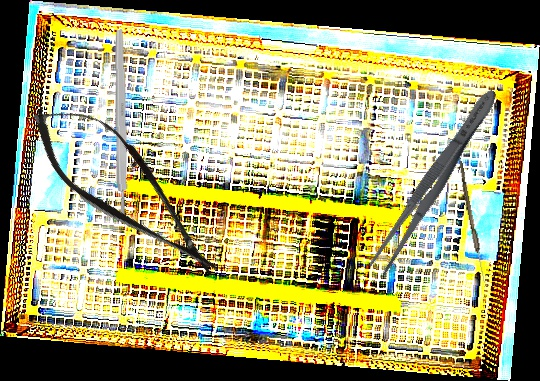Dressing Forceps: (364, 83, 506, 279)
Micro Scissor: (14, 81, 240, 299)
Scalpel Handle: (113, 29, 129, 224)
Surgical Spoon: (456, 160, 488, 284)
